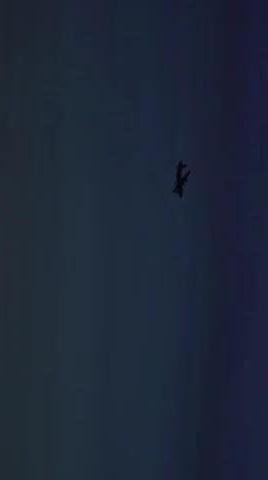Plane: (163, 143, 201, 215)
